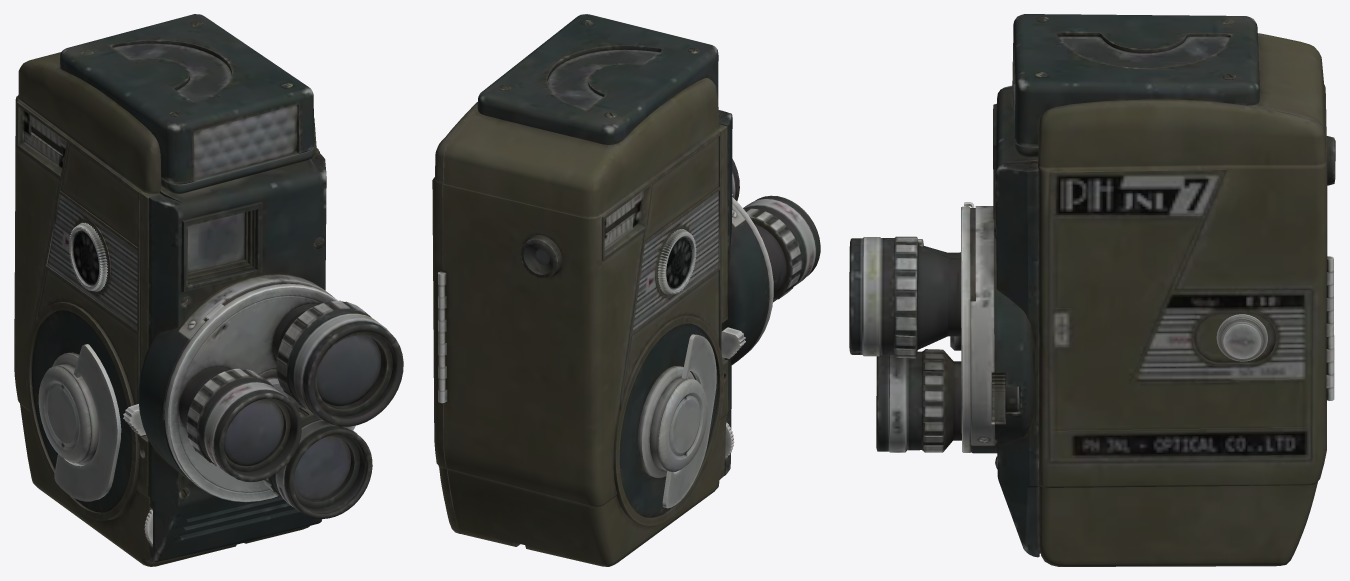
The model's file is vintage_video_camera.glb.
3 renders of one model, left to right at view 1: azimuth 30°, elevation 25°; view 2: azimuth 150°, elevation 25°; view 3: azimuth 270°, elevation 25°, orthographic. The views are drawn at different scales.
Visible parts, largest first — view 1: vintage_video_camera; view 2: vintage_video_camera; view 3: vintage_video_camera.
Boxes of the visible parts, x1,y1,x2,y2 form: vintage_video_camera: (14, 14, 403, 566); vintage_video_camera: (432, 14, 820, 566); vintage_video_camera: (849, 14, 1335, 566).
Bounding box in the file's own units: 0.0712 × 0.145 × 0.1326.
Materials: 2 (2 with a texture image).
